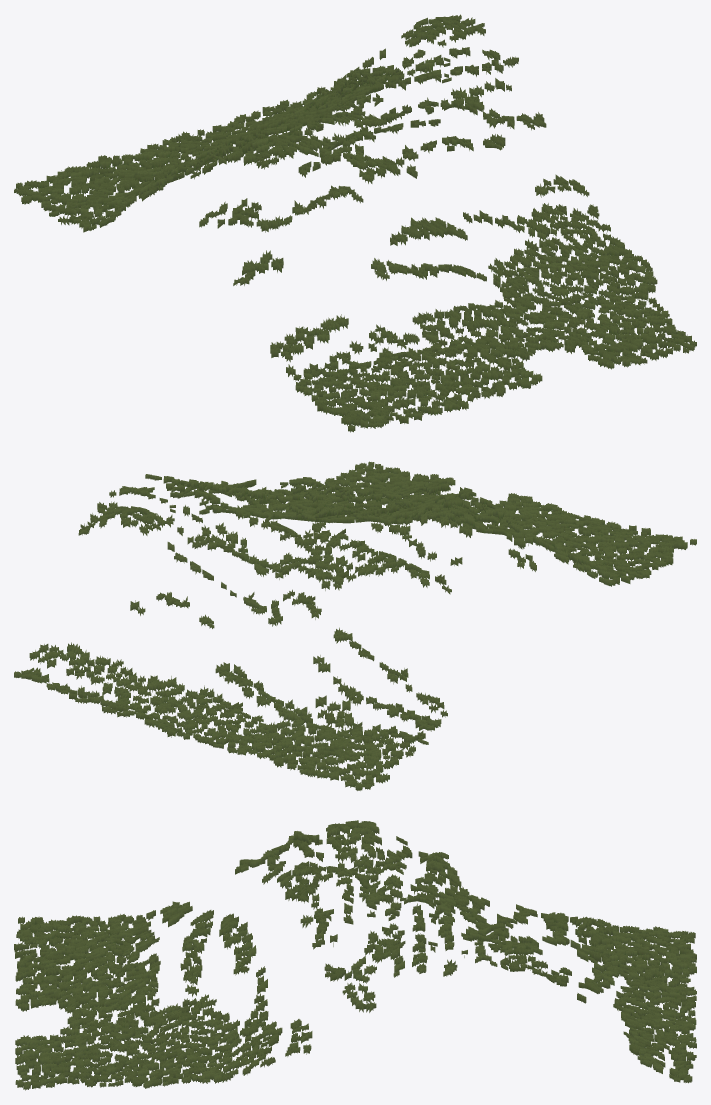
The model's file is TRB8-GRASS-CHUNK-1-4.glb.
3 views of the same model, one above another, from view 1: azimuth 30°, elevation 25°; view 2: azimuth 150°, elevation 25°; view 3: azimuth 270°, elevation 25° (orthographic). The views are drawn at different scales.
Visible parts, largest first — view 1: TRB8-GRASS-CHUNK-1-4; view 2: TRB8-GRASS-CHUNK-1-4; view 3: TRB8-GRASS-CHUNK-1-4.
Boxes of the visible parts, <box> form: TRB8-GRASS-CHUNK-1-4: <box>14,14,696,432</box>; TRB8-GRASS-CHUNK-1-4: <box>14,461,696,790</box>; TRB8-GRASS-CHUNK-1-4: <box>14,820,696,1090</box>.
Bounding box in the file's own units: 25.65 × 10.04 × 40.53.
1 material, 1 textured.
